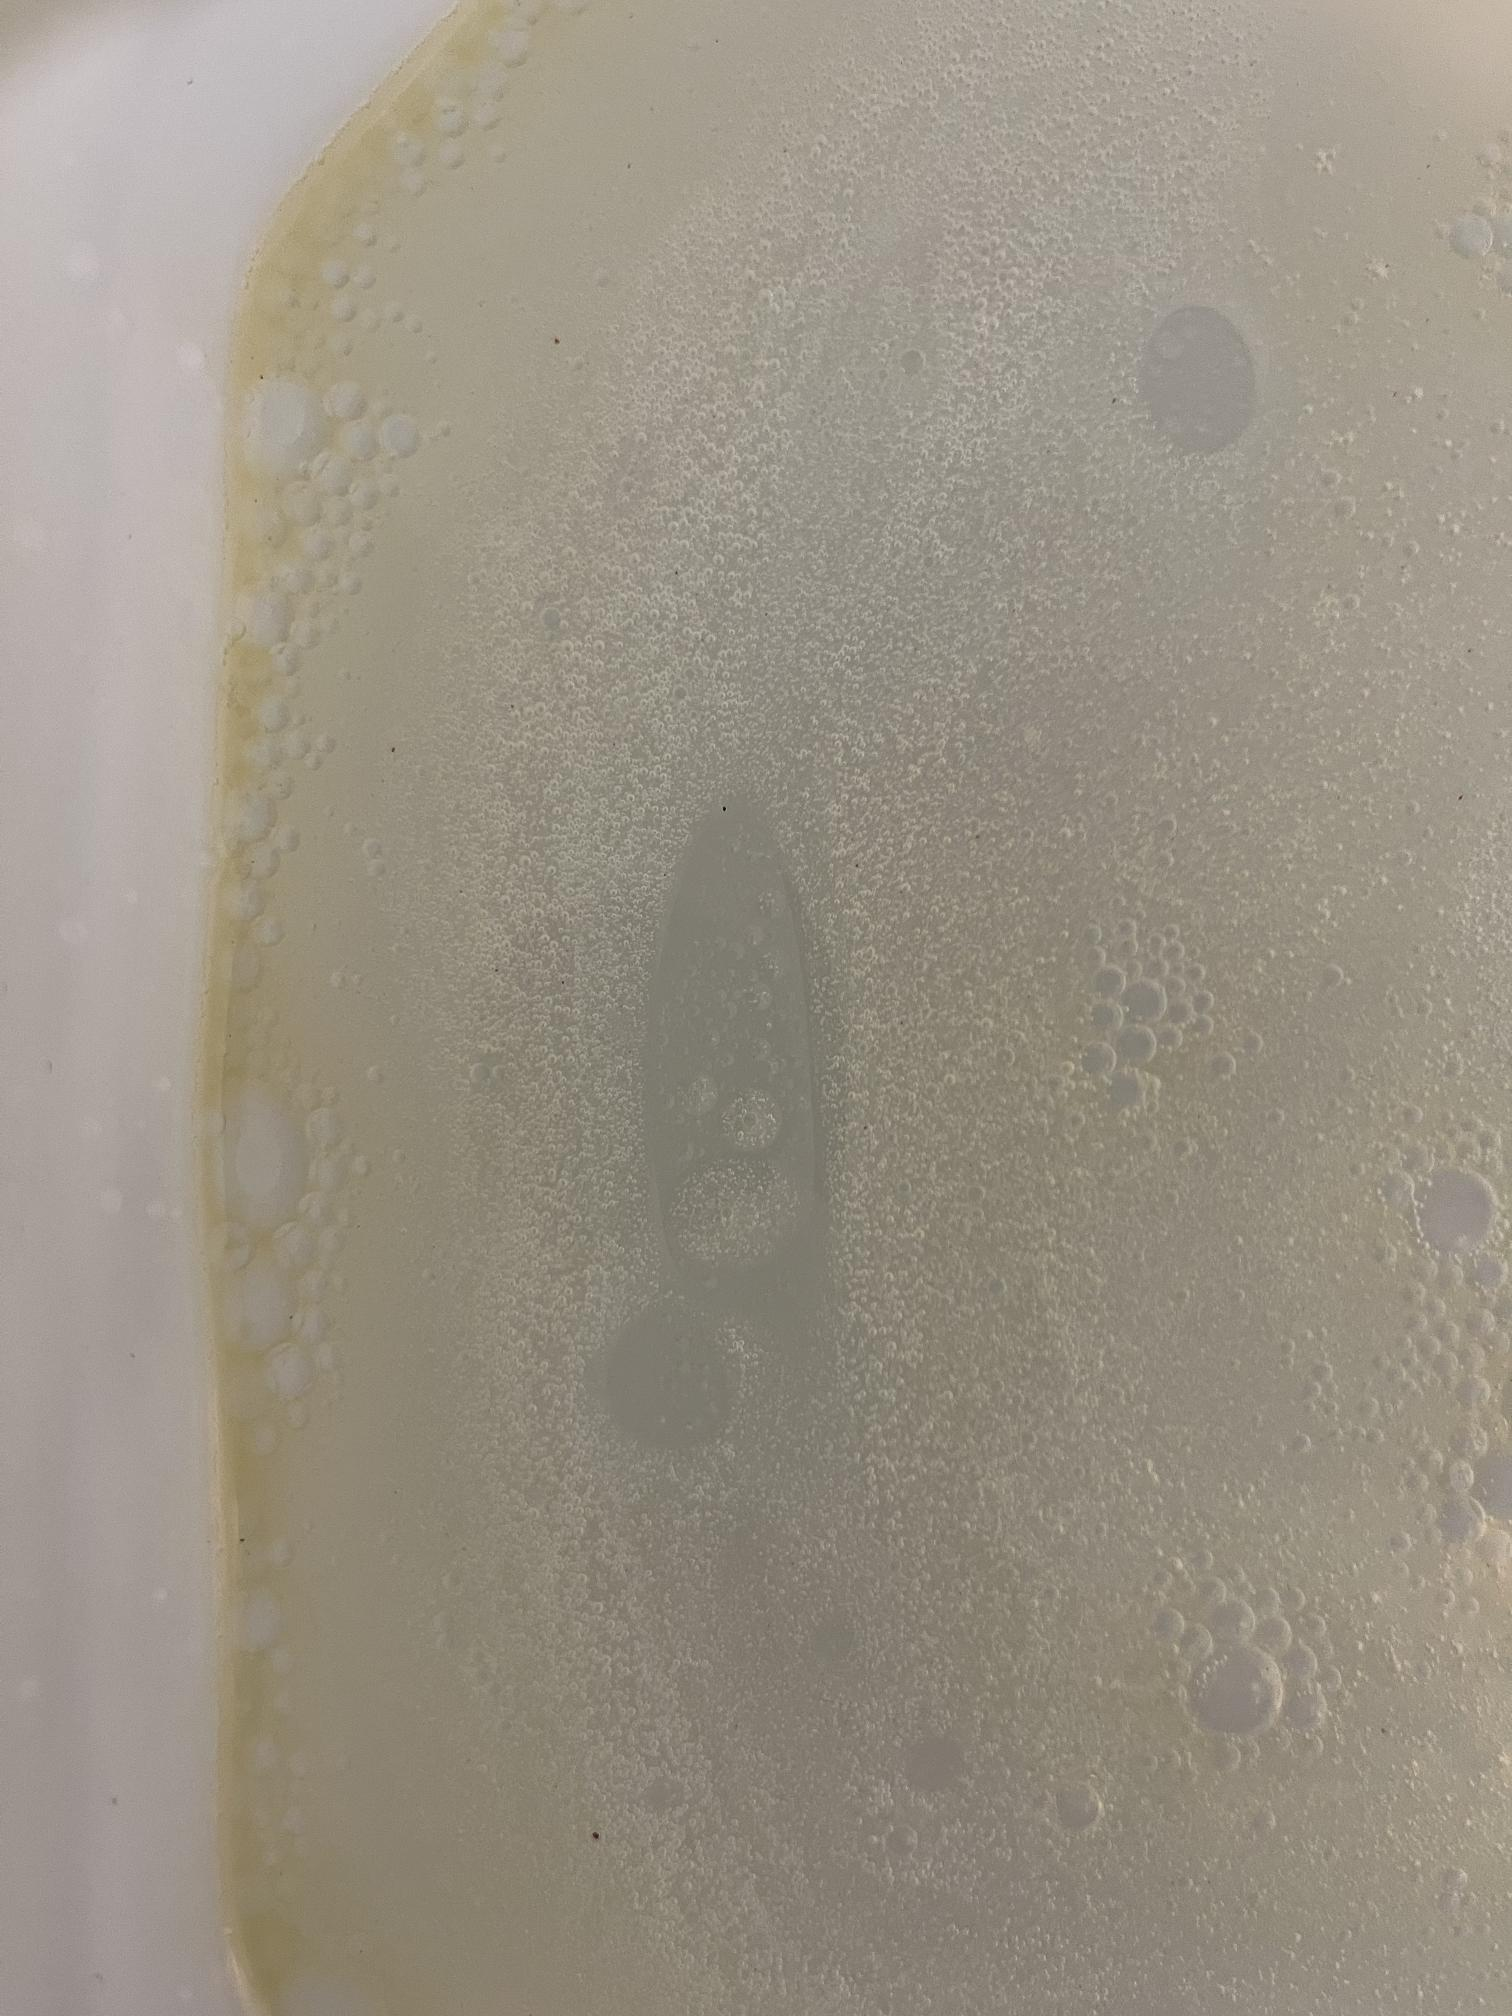Presenca de Oleo - - 80ml: (95, 114, 1420, 1940)
